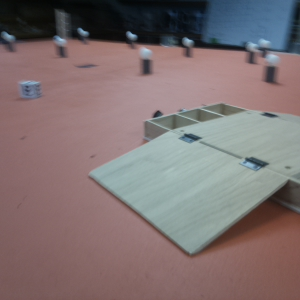blockE: (19, 82, 46, 100)
corner: (54, 11, 72, 41)
obstacle: (263, 56, 283, 86), (139, 47, 155, 76), (53, 36, 69, 59), (245, 43, 260, 67), (2, 34, 19, 55), (183, 39, 196, 60), (126, 32, 138, 49), (258, 39, 269, 57), (78, 29, 88, 44)
side: (138, 99, 249, 143), (276, 173, 300, 215)
slope: (83, 130, 290, 257)
start: (73, 62, 99, 69)
